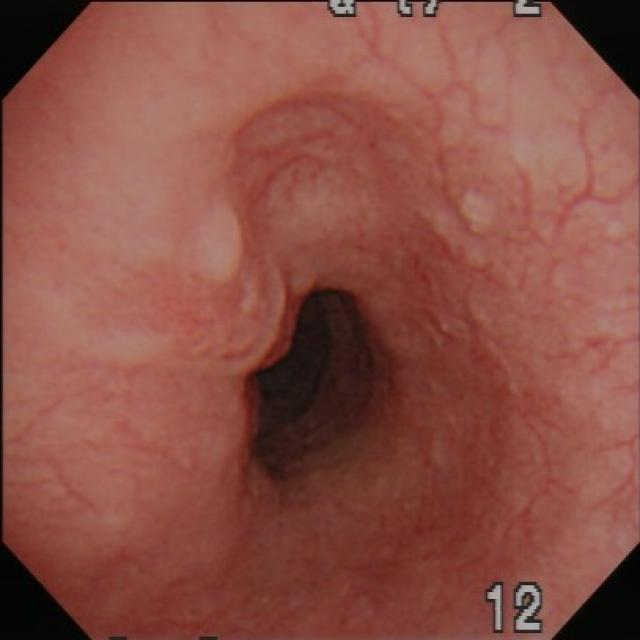A: (402, 181, 517, 362)
B: (121, 184, 309, 388)
E: (239, 278, 393, 492)
S: (485, 581, 547, 636), (325, 3, 545, 18)
